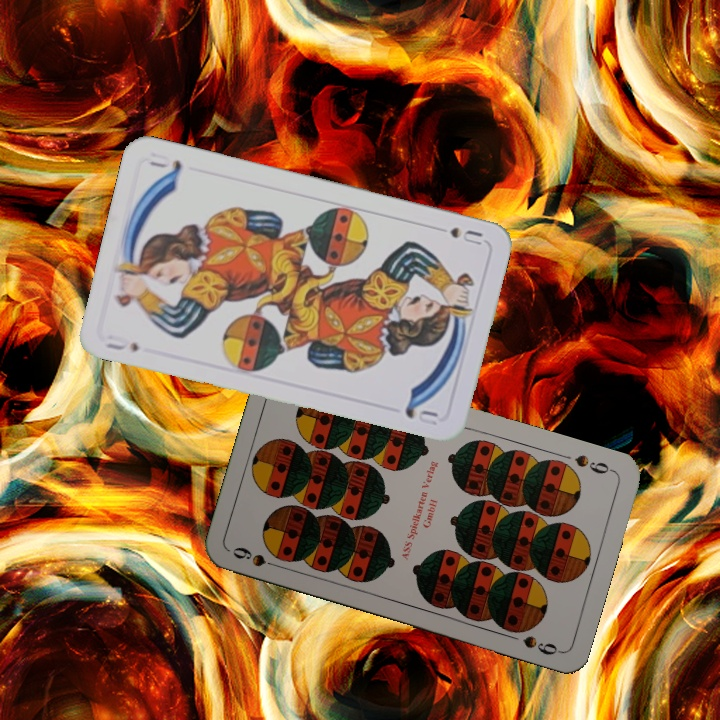S9: (228, 543, 285, 572), (571, 450, 617, 477)
SU: (101, 330, 142, 354), (446, 223, 485, 248)
